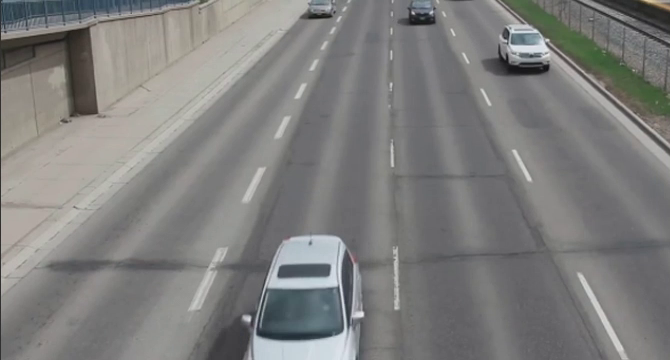car: (236, 237, 373, 360), (492, 24, 557, 72), (406, 1, 441, 24), (302, 1, 339, 19)
